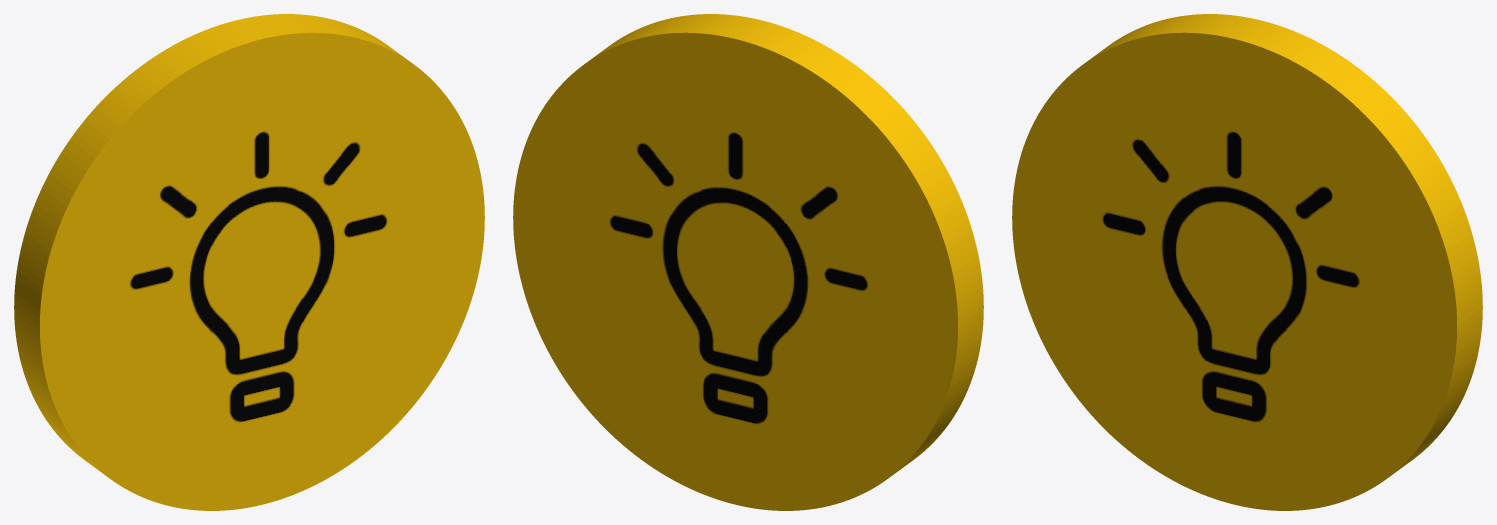
The model's file is light_bulb.dae.
3 renders of one model, left to right at view 1: azimuth 30°, elevation 25°; view 2: azimuth 150°, elevation 25°; view 3: azimuth 330°, elevation 25°, orthographic.
Visible parts, largest first — view 1: Cylinder.001; view 2: Cylinder.001; view 3: Cylinder.001.
Boxes of the visible parts, box(x1,y1,x2,y2) form: Cylinder.001: box(14, 14, 484, 510); Cylinder.001: box(513, 14, 983, 510); Cylinder.001: box(1012, 14, 1482, 510).
Bounding box in the file's own units: 0.3 × 0.03 × 0.3.
